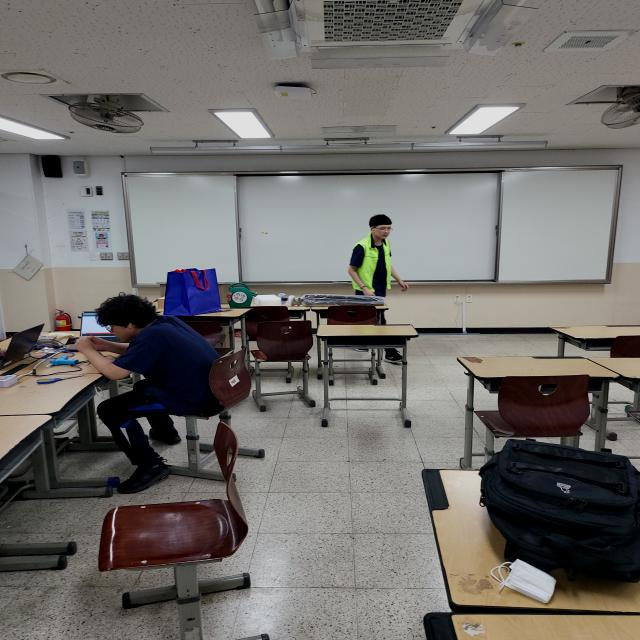weston_spy: (351, 242, 396, 300)
